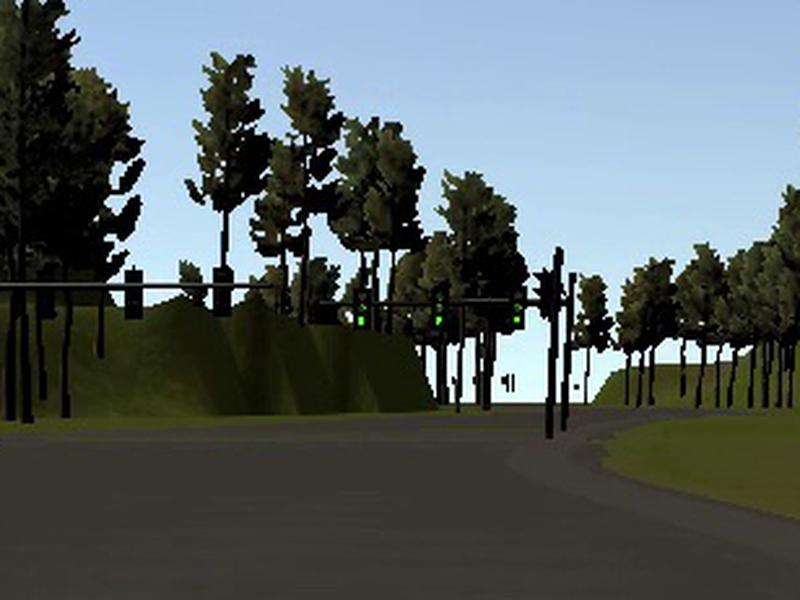Green: (354, 286, 374, 330), (510, 285, 527, 329), (430, 284, 446, 329)
